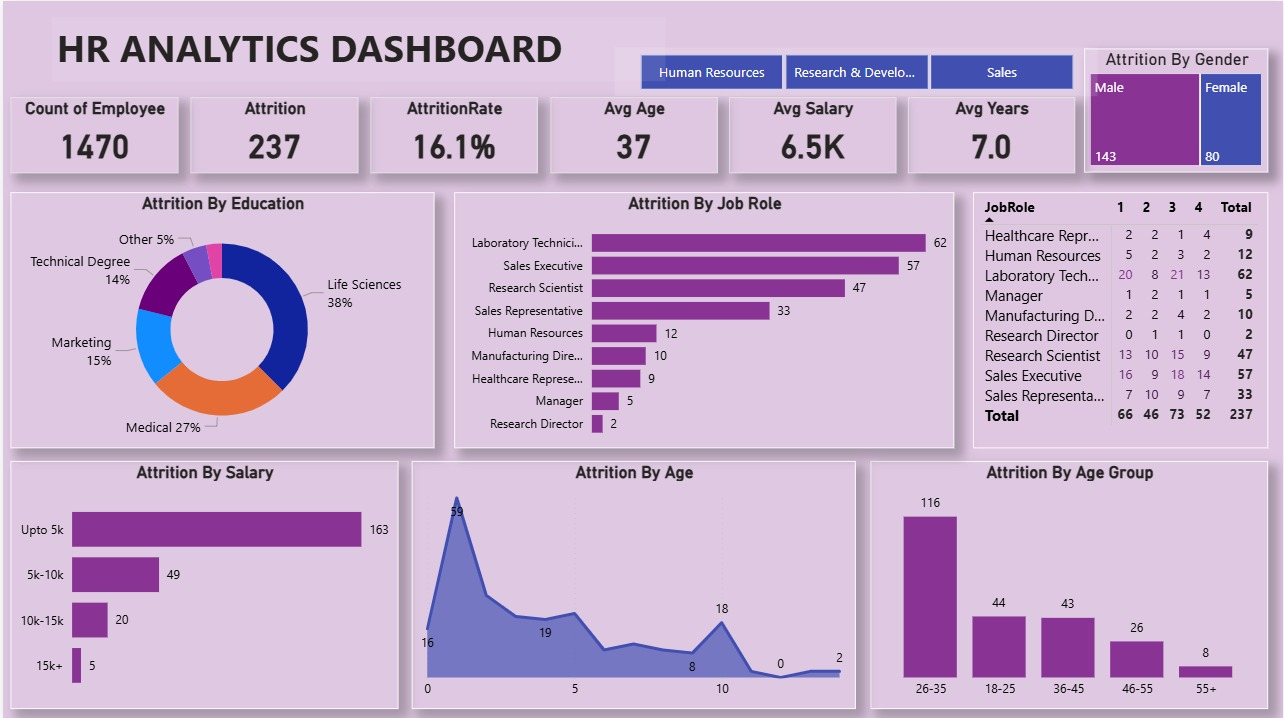

The dashboard page shown, as its layout file describes it:
{"tool":"powerbi","page":{"name":"Page 1","canvas":[1280,720],"ordinal":0},"visuals":[{"type":"card","title":"Count of Employee","fields":{"Values":["Count(HR_Analytics.EmpID)"]},"box":[7.4,95.9,168.1,76.1],"z":0},{"type":"card","title":"Attrition","fields":{"Values":["Sum(HR_Analytics.AttritionCount)"]},"box":[187.7,95.9,168.1,76.1],"z":1000},{"type":"card","title":"AttritionRate","fields":{"Values":["HR_Analytics.AttritionRate"]},"box":[368.1,95.9,166.9,76.1],"z":2000},{"type":"card","title":"Avg Age","fields":{"Values":["Avg(HR_Analytics.Age)"]},"box":[547.2,95.9,166.9,76.1],"z":3000},{"type":"card","title":"Avg Salary","fields":{"Values":["Avg(HR_Analytics.MonthlyIncome)"]},"box":[726.4,95.9,166.9,76.1],"z":4000},{"type":"card","title":"Avg Years","fields":{"Values":["Avg(HR_Analytics.YearsAtCompany)"]},"box":[905.5,95.9,166.9,76.1],"z":5000},{"type":"donutChart","title":"Attrition By Education","fields":{"Category":["HR_Analytics.EducationField"],"Y":["Sum(HR_Analytics.AttritionCount)"]},"box":[7.5,191.2,423.8,256.2],"z":6000},{"type":"columnChart","title":"Attrition By Age Group","fields":{"Category":["HR_Analytics.AgeGroup"],"Y":["Sum(HR_Analytics.AttritionCount)"]},"box":[867.5,460.1,397.5,247.9],"z":7000},{"type":"barChart","title":"Attrition By Salary","fields":{"Category":["HR_Analytics.SalarySlab"],"Y":["Sum(HR_Analytics.AttritionCount)"]},"box":[7.4,460.1,387.7,247.9],"z":8000},{"type":"barChart","title":"Attrition By Job Role","fields":{"Y":["Sum(HR_Analytics.AttritionCount)"],"Category":["HR_Analytics.JobRole"]},"box":[451.2,191.2,500,256.2],"z":9000},{"type":"areaChart","title":"Attrition By Age","fields":{"Category":["HR_Analytics.YearsAtCompany"],"Y":["Sum(HR_Analytics.AttritionCount)"]},"box":[408.6,460.1,444.2,247.9],"z":10000},{"type":"treemap","title":"Attrition By Gender","fields":{"Group":["HR_Analytics.Gender"],"Values":["Sum(HR_Analytics.AttritionCount)"]},"box":[1081,47.9,184.1,123.9],"z":11000},{"type":"slicer","fields":{"Values":["HR_Analytics.Department"]},"box":[611,46.6,483.4,49.1],"z":12000},{"type":"textbox","box":[49.1,16,613.5,63.8],"z":13000},{"type":"pivotTable","title":"Attrition By Education","fields":{"Values":["Sum(HR_Analytics.AttritionCount)"],"Rows":["HR_Analytics.JobRole"],"Columns":["HR_Analytics.JobSatisfaction"]},"box":[970,191.2,295,256.2],"z":14000}]}

Visuals, with their boxes in screenshot pixels (x1, y1, x2, y2), scaled from the page's 1280x720 canvas onto the 1284x718 screenshot:
"Count of Employee" card: locate(7, 96, 176, 172)
"Attrition" card: locate(188, 96, 357, 172)
"AttritionRate" card: locate(369, 96, 537, 172)
"Avg Age" card: locate(549, 96, 716, 172)
"Avg Salary" card: locate(729, 96, 896, 172)
"Avg Years" card: locate(908, 96, 1076, 172)
"Attrition By Education" donutChart: locate(8, 191, 433, 446)
"Attrition By Age Group" columnChart: locate(870, 459, 1269, 706)
"Attrition By Salary" barChart: locate(7, 459, 396, 706)
"Attrition By Job Role" barChart: locate(453, 191, 954, 446)
"Attrition By Age" areaChart: locate(410, 459, 855, 706)
"Attrition By Gender" treemap: locate(1084, 48, 1269, 171)
slicer - HR_Analytics.Department: locate(613, 46, 1098, 95)
textbox: locate(49, 16, 665, 80)
"Attrition By Education" pivotTable: locate(973, 191, 1269, 446)
